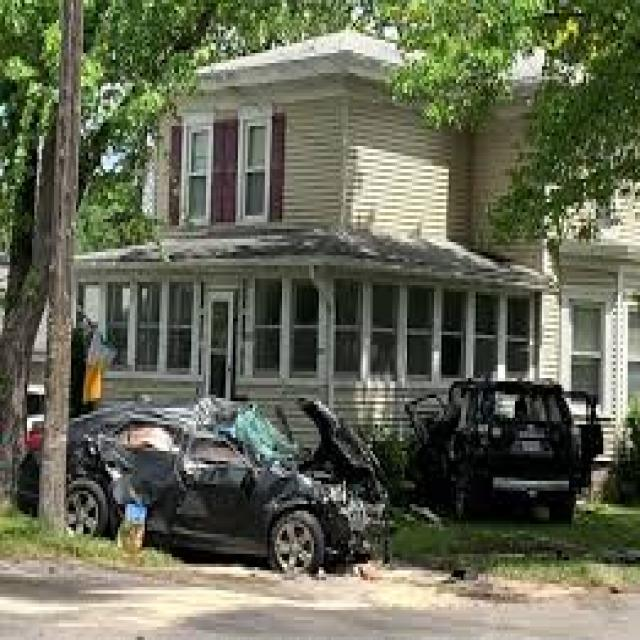accident: (19, 336, 625, 602), (21, 378, 405, 583), (415, 373, 619, 542)
